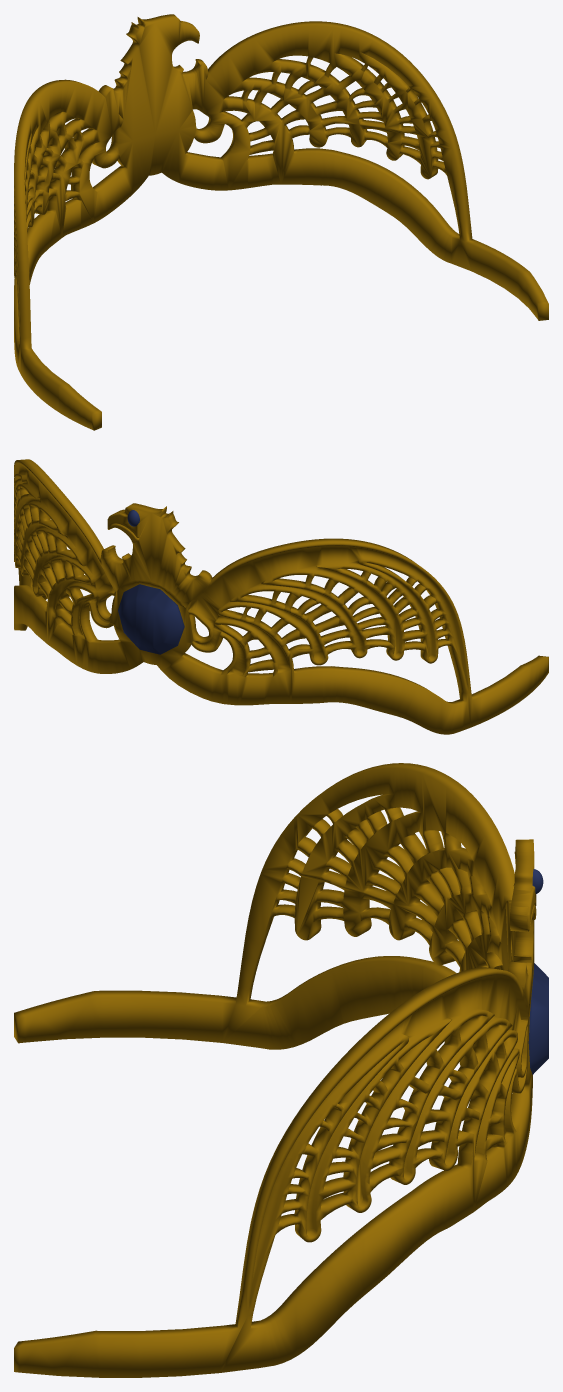
File: Diadem.glb
3 views of the same model, one above another, from view 1: azimuth 30°, elevation 25°; view 2: azimuth 150°, elevation 25°; view 3: azimuth 270°, elevation 25° (orthographic). The views are drawn at different scales.
Visible parts, largest first — view 1: Tiara; view 2: Tiara; view 3: Tiara.
Part boxes in pixels (x1,y1,x2,y2): Tiara: (14,14,548,430); Tiara: (14,459,548,734); Tiara: (14,763,548,1377).
Size of the model in its own units: 1.53 by 0.7317 by 0.996.
